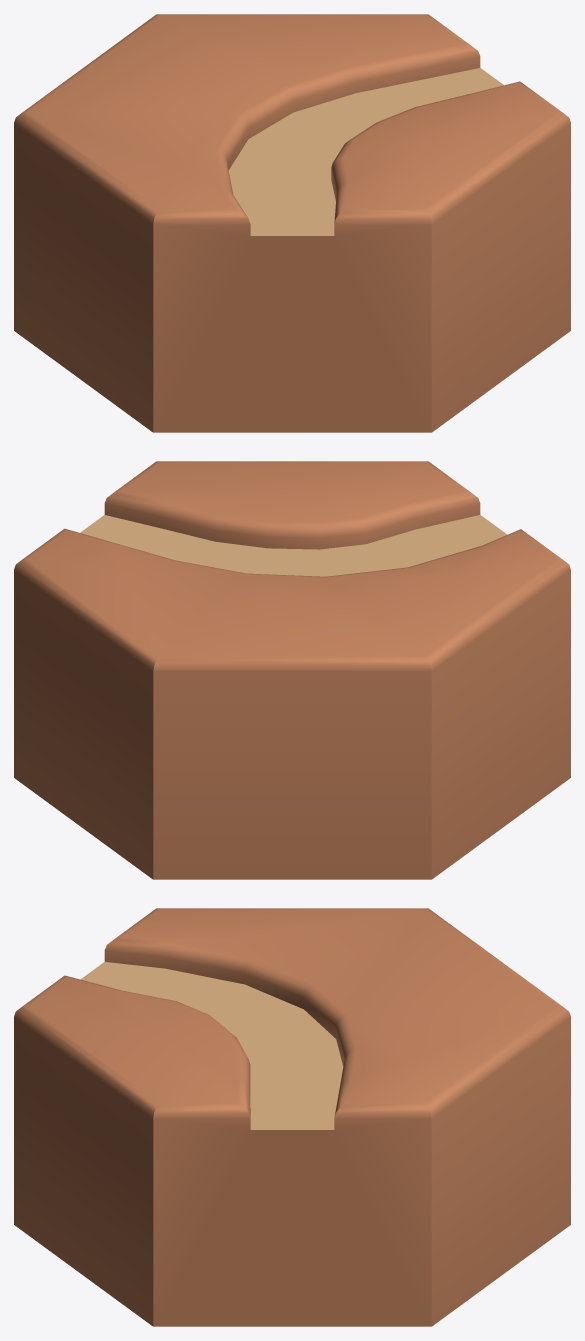
Rendered from hex_rock_roadD.glb.
3 views of the same model, one above another, from view 1: azimuth 30°, elevation 25°; view 2: azimuth 150°, elevation 25°; view 3: azimuth 270°, elevation 25° (orthographic).
Parts seen in each view (by area): view 1: hex_rock_roadD; view 2: hex_rock_roadD; view 3: hex_rock_roadD.
Part boxes in pixels (left/top/right/bottom): hex_rock_roadD: left=14, top=14, right=570, bottom=432; hex_rock_roadD: left=14, top=461, right=570, bottom=879; hex_rock_roadD: left=14, top=908, right=570, bottom=1326.
Bounding box in the file's own units: 3.82 × 1.91 × 4.41.
